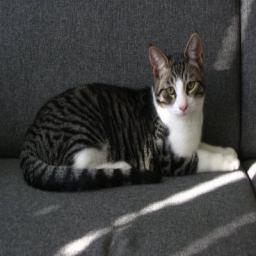catnose: (178, 102, 188, 114)
